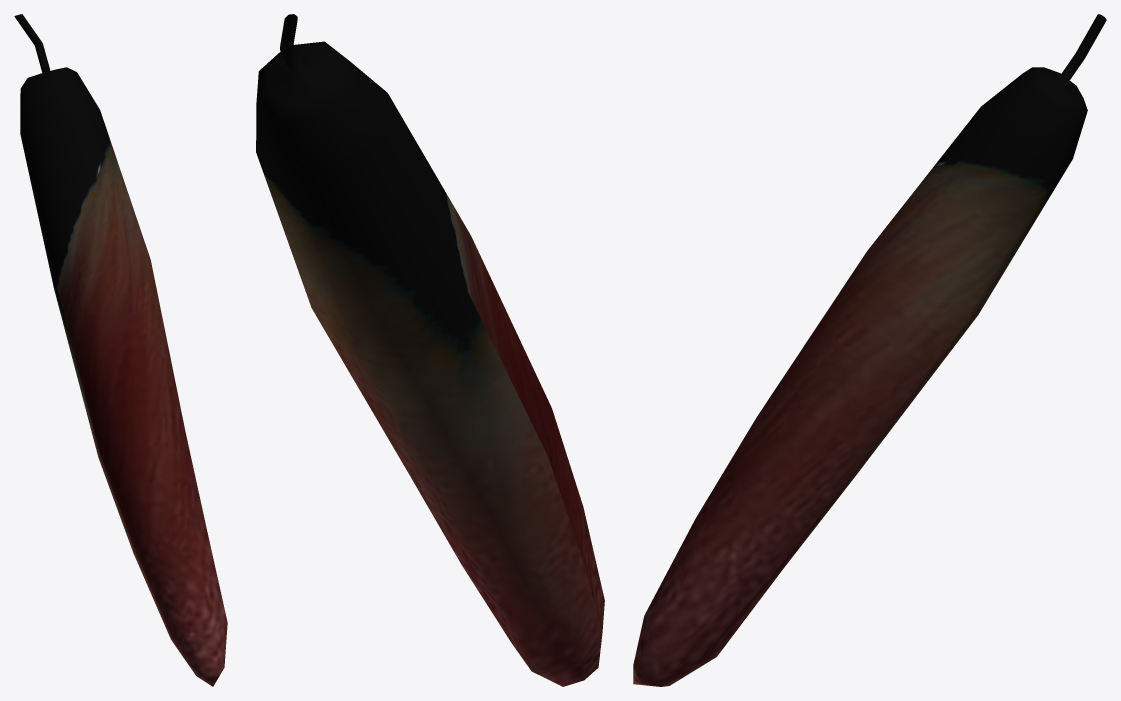
Rendered from caret.fbx.
3 views of the same model, side by side, from view 1: azimuth 30°, elevation 25°; view 2: azimuth 150°, elevation 25°; view 3: azimuth 270°, elevation 25° (orthographic). The views are drawn at different scales.
Visible parts, largest first — view 1: caret; view 2: caret; view 3: caret.
Part boxes in pixels (x1,y1,x2,y2): caret: (14, 14, 227, 686); caret: (256, 14, 604, 686); caret: (633, 14, 1106, 686).
Bounding box in the file's own units: 6.37 × 34.63 × 22.32.
